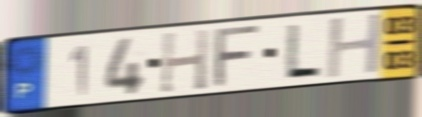1: (68, 42, 89, 97)
4: (102, 35, 147, 97)
F: (211, 23, 265, 91)
H: (324, 10, 385, 82), (157, 27, 212, 96)
L: (282, 22, 324, 79)
